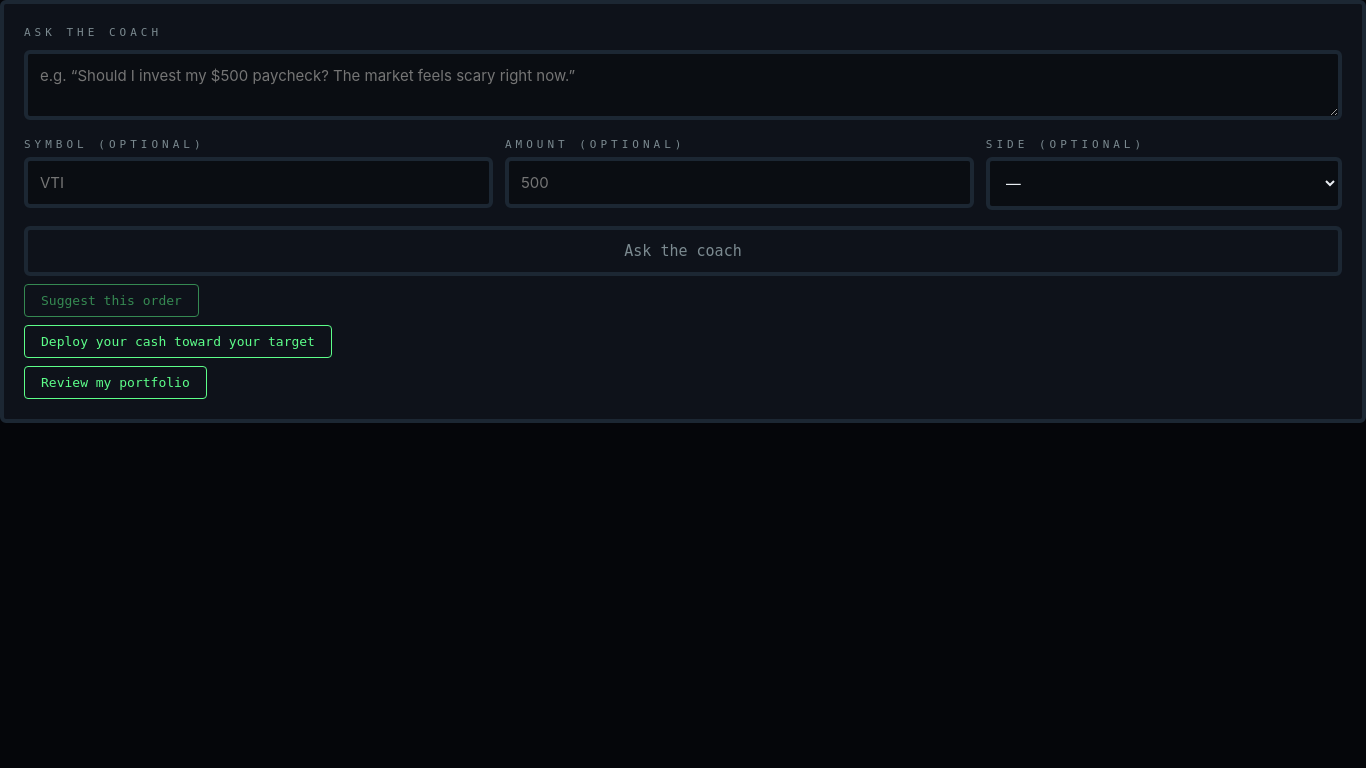
CoachConsult — deploy-my-cash affordance (Story 10.2/10.3) › shows the honest money-market funding split + protected reserve (Story 10.8 AC5)
What coordinates should you click on to do the following:
click the button with test id "coach-deploy-cash"
I would click on:
 (178, 342)
Its box is 24,325 -> 332,358.
(page scrolled)
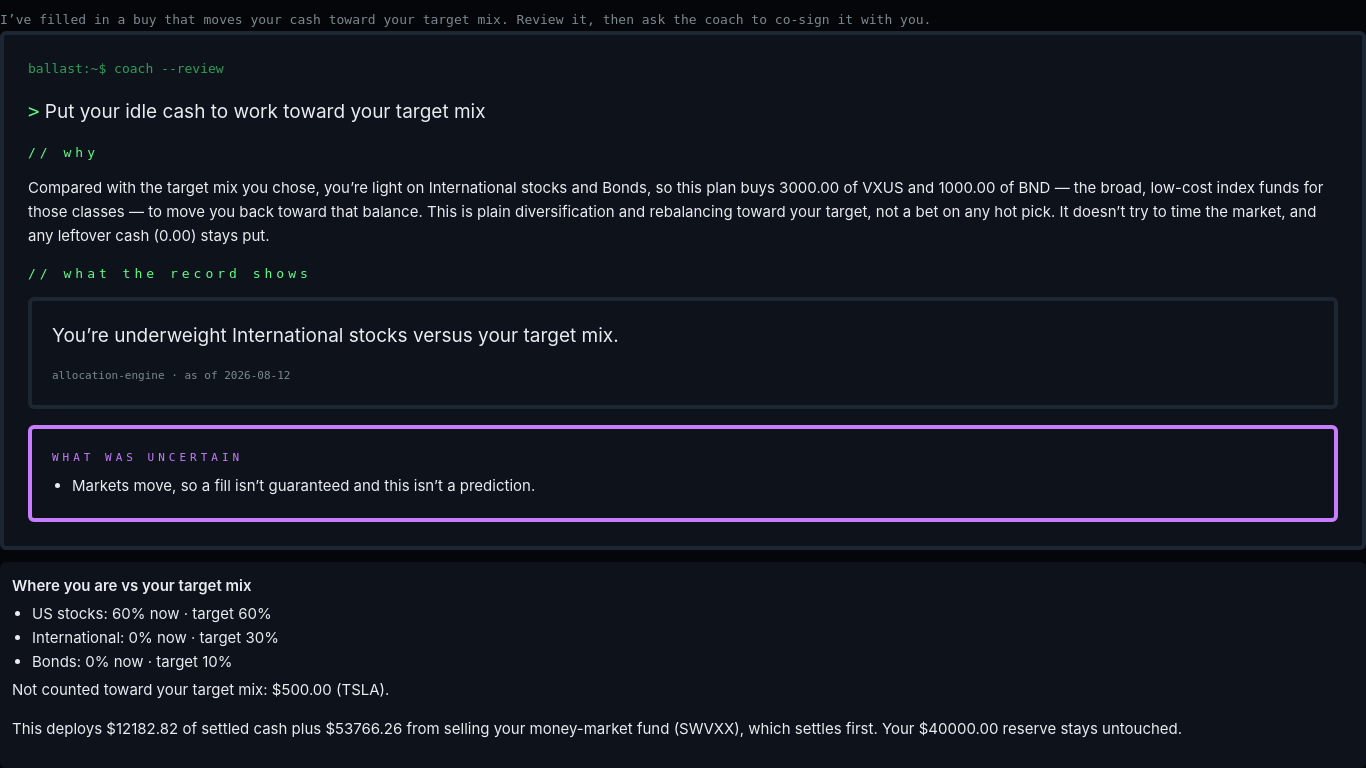
Check: the text with test id "coach-deploy-funding" shows "$12182.82 of settled cash plus $53766.26 from selling your money-market fund (SWVXX)", box 12,717 -> 1354,741
Check: the text with test id "coach-deploy-funding" shows "$40000.00 reserve stays untouched", box 878,719 -> 1182,738
